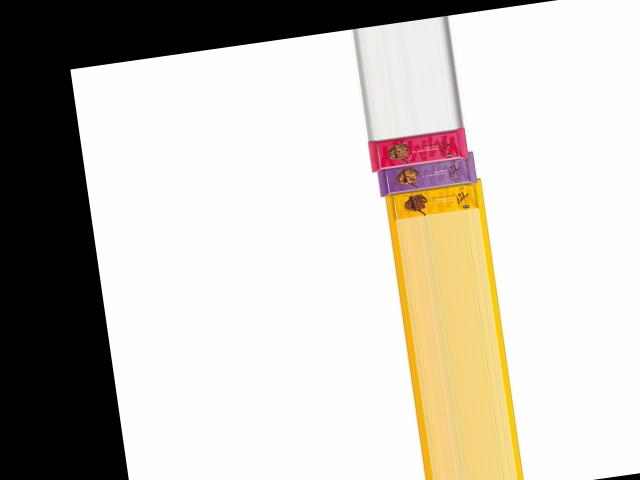chocolate: (361, 125, 473, 172)
